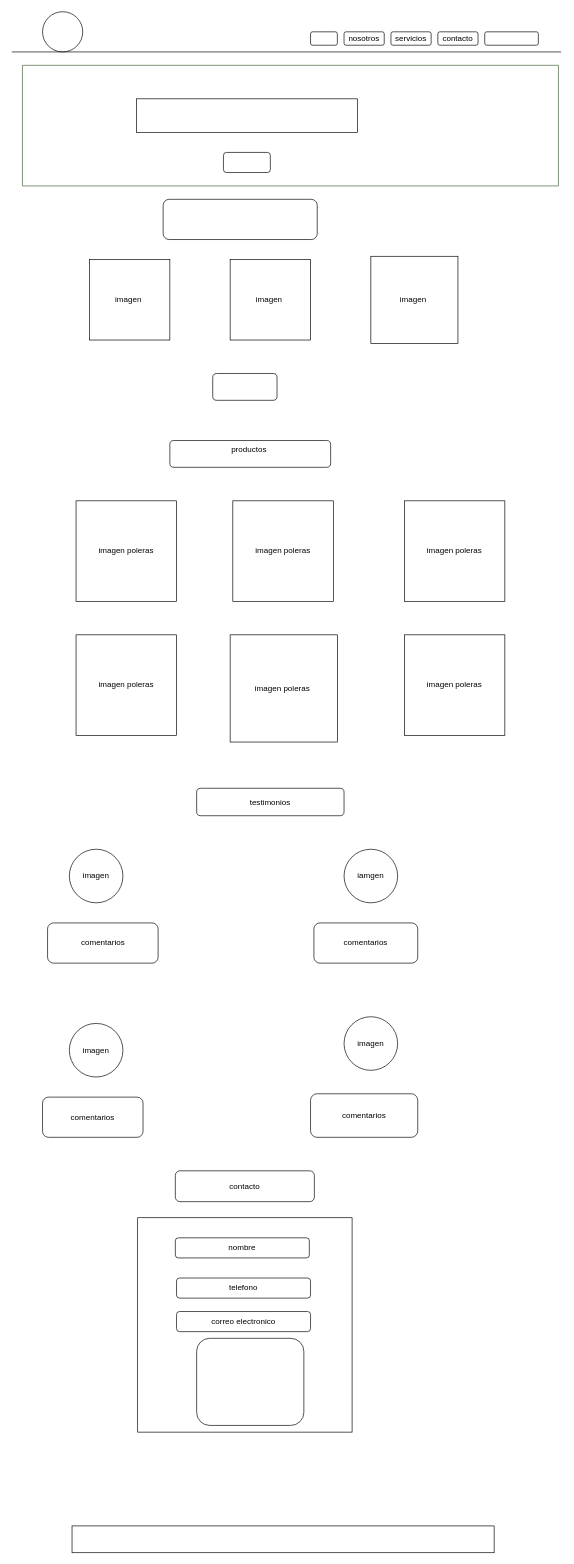
Some shapes in this 574 by 1564 pixel diagram are drawn without their labels. Here are the shapes that lost their labels. From the top down, the centre of each, then its label:
point (62, 31): Logo
point (323, 38): inicio
point (511, 38): iniciar sesion
point (246, 115): opcion de visitar nuestro nuevo catalogo
point (246, 162): click acceso
point (239, 219): acerca de nosotros
point (244, 386): mas opciones
point (250, 1381): mensaje
point (282, 1539): pie de pagina
